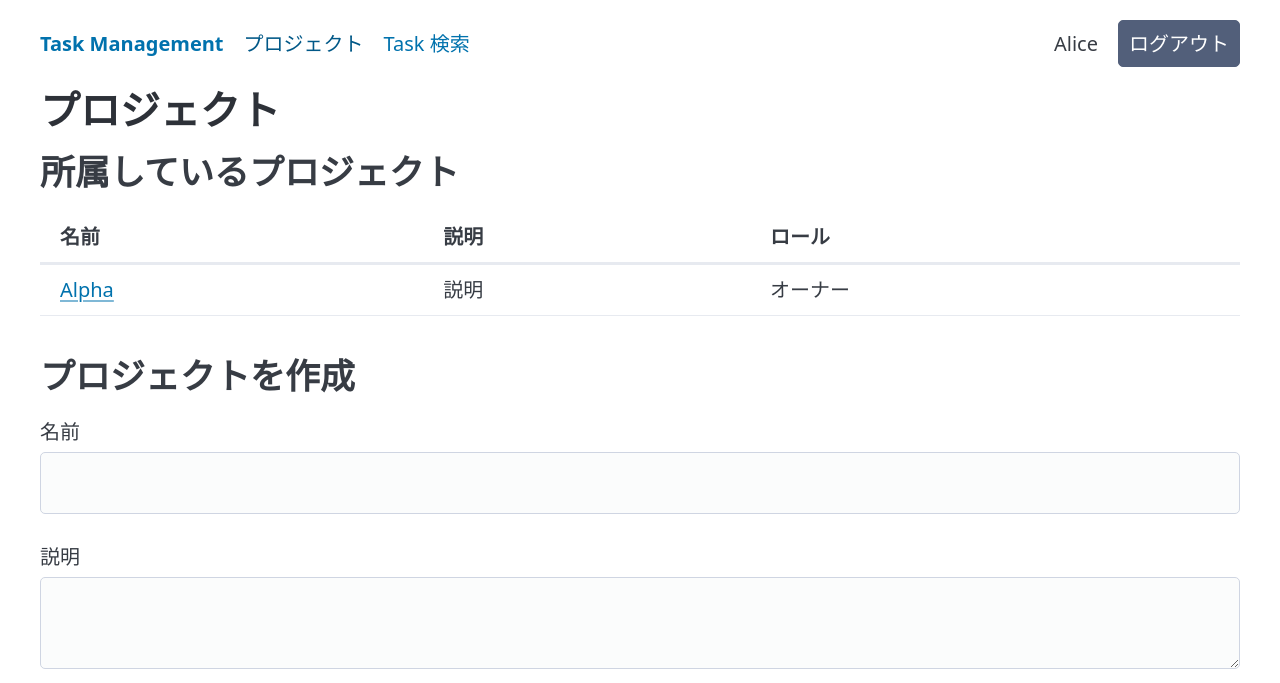
Test case: プロジェクト詳細 › 一覧のプロジェクト名から詳細へ移動できる
Click the link "Alpha". click: (87, 290)
box: [60, 276, 114, 303]
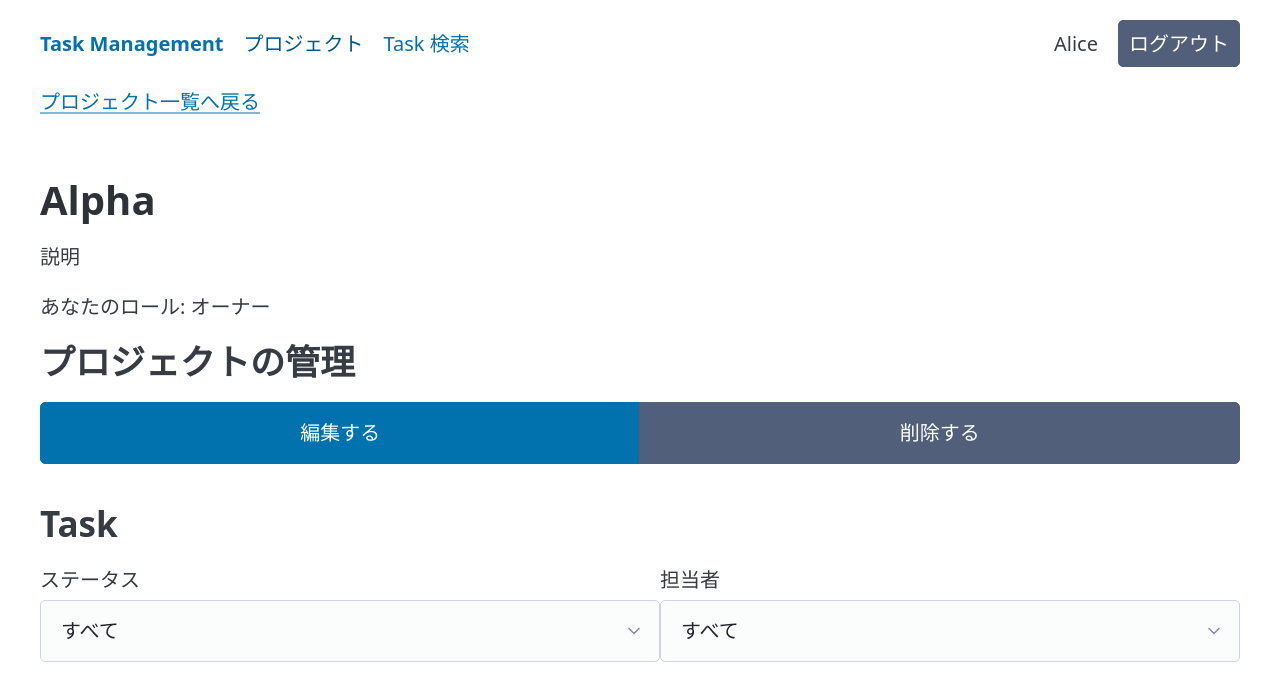
Now the heading "Alpha" is shown, box [40, 172, 156, 227]
